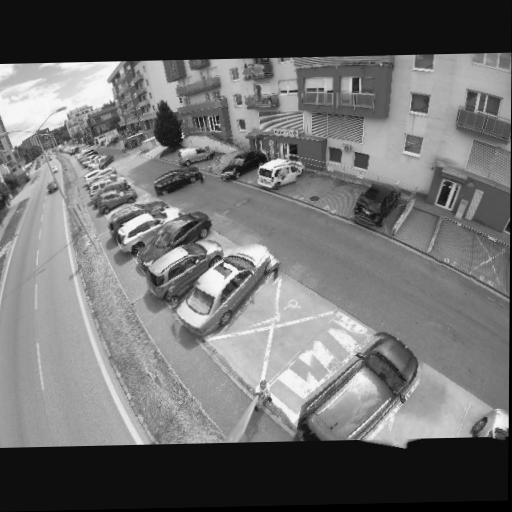busy: (301, 328, 423, 446), (165, 246, 278, 339), (145, 237, 224, 288), (142, 214, 210, 255), (115, 208, 183, 246), (349, 184, 398, 225), (253, 158, 302, 192), (465, 405, 509, 439), (148, 168, 201, 196), (110, 202, 165, 227), (215, 152, 262, 181), (95, 185, 137, 211), (174, 146, 213, 167), (91, 178, 128, 195), (89, 155, 113, 168)
free: (387, 406, 457, 442), (326, 180, 365, 219), (470, 248, 508, 284), (432, 232, 473, 265), (296, 174, 333, 209), (240, 157, 272, 190)
